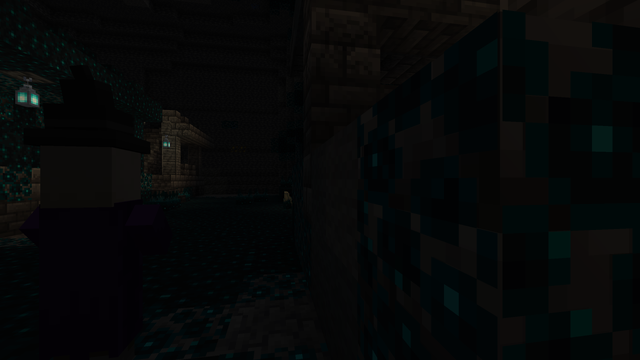sorcieres: (21, 134, 151, 359)
